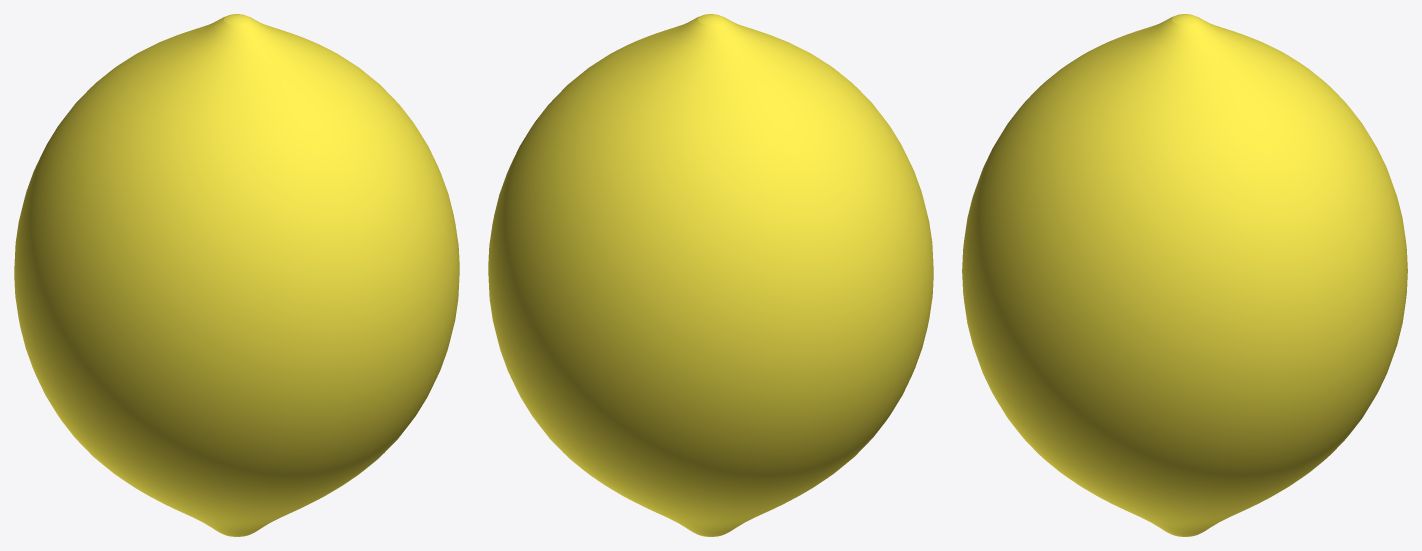
Rendered from lemon.fbx.
3 renders of one model, left to right at view 1: azimuth 30°, elevation 25°; view 2: azimuth 150°, elevation 25°; view 3: azimuth 270°, elevation 25°, orthographic.
Visible parts, largest first — view 1: 球; view 2: 球; view 3: 球.
Boxes of the visible parts, <box> form: 球: <box>14,14,459,536</box>; 球: <box>488,14,933,536</box>; 球: <box>962,14,1407,536</box>.
Size of the model in its own units: 197 by 251 by 197.
1 material, 1 textured.
